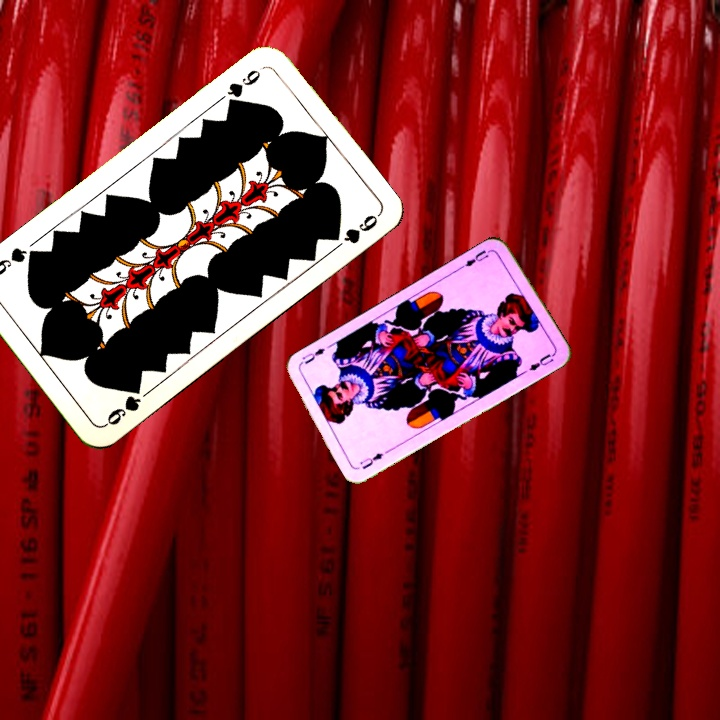EU: (457, 245, 494, 271), (356, 449, 385, 472)
G9: (100, 380, 144, 429), (223, 62, 267, 110)
